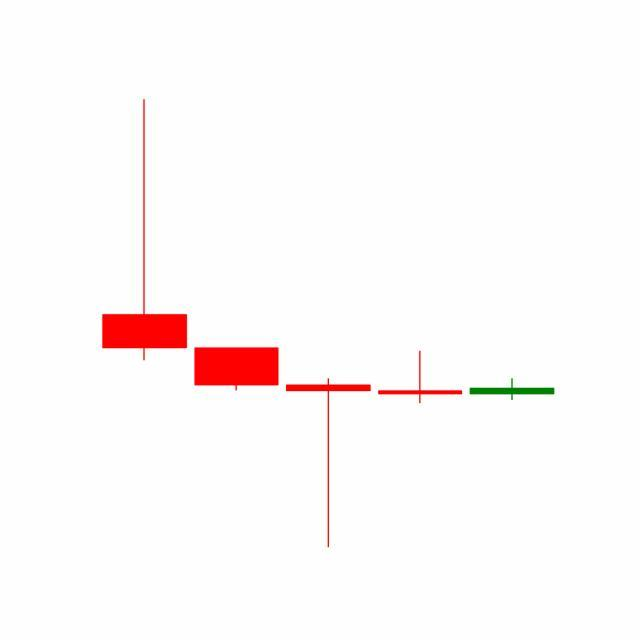Spinning Top: (374, 350, 468, 404)
